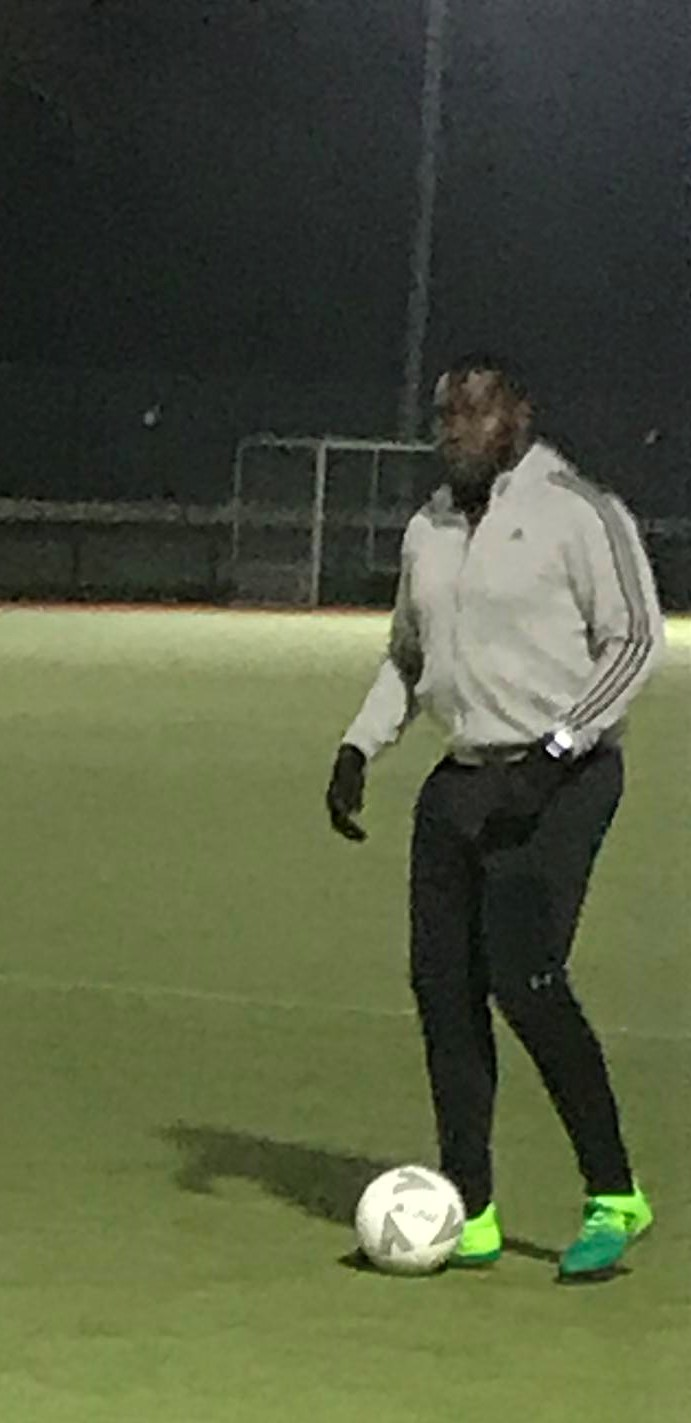football: (352, 1161, 470, 1267)
